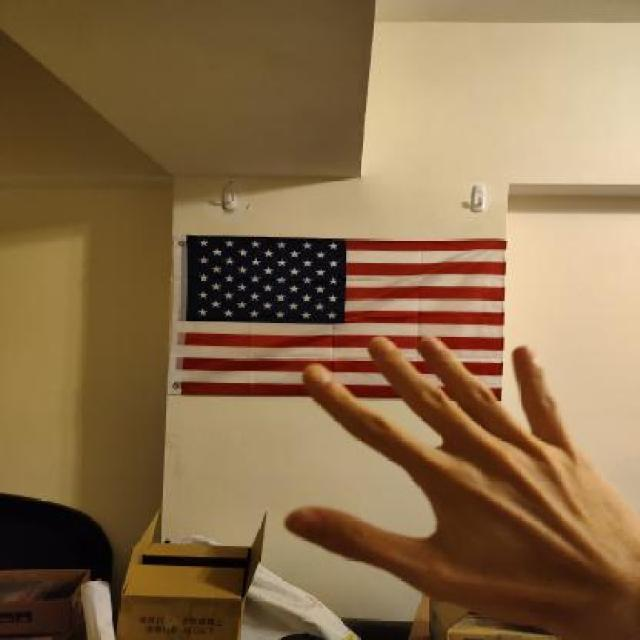bare_hand: (271, 323, 640, 640)
